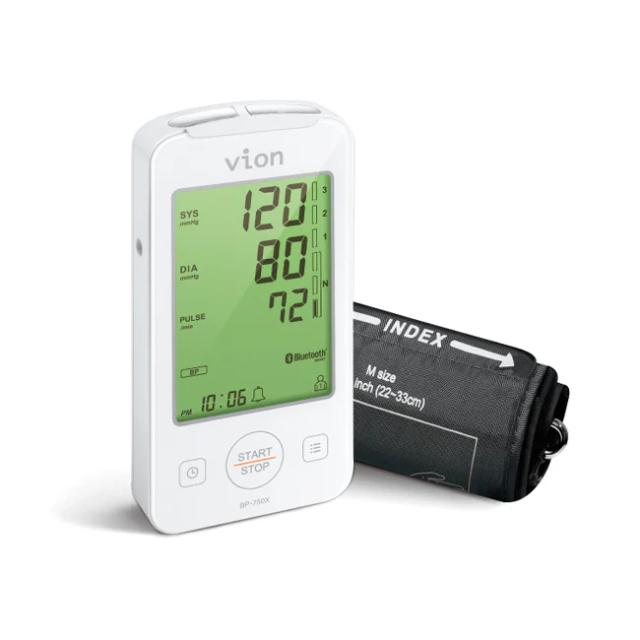dia: (242, 228, 323, 287)
pul: (266, 281, 317, 328)
ssd: (171, 172, 336, 430)
sys: (233, 177, 319, 237)
